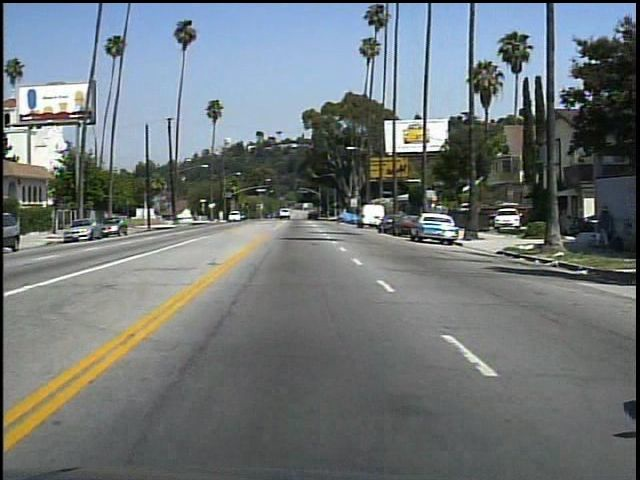person: (608, 200, 610, 254)
